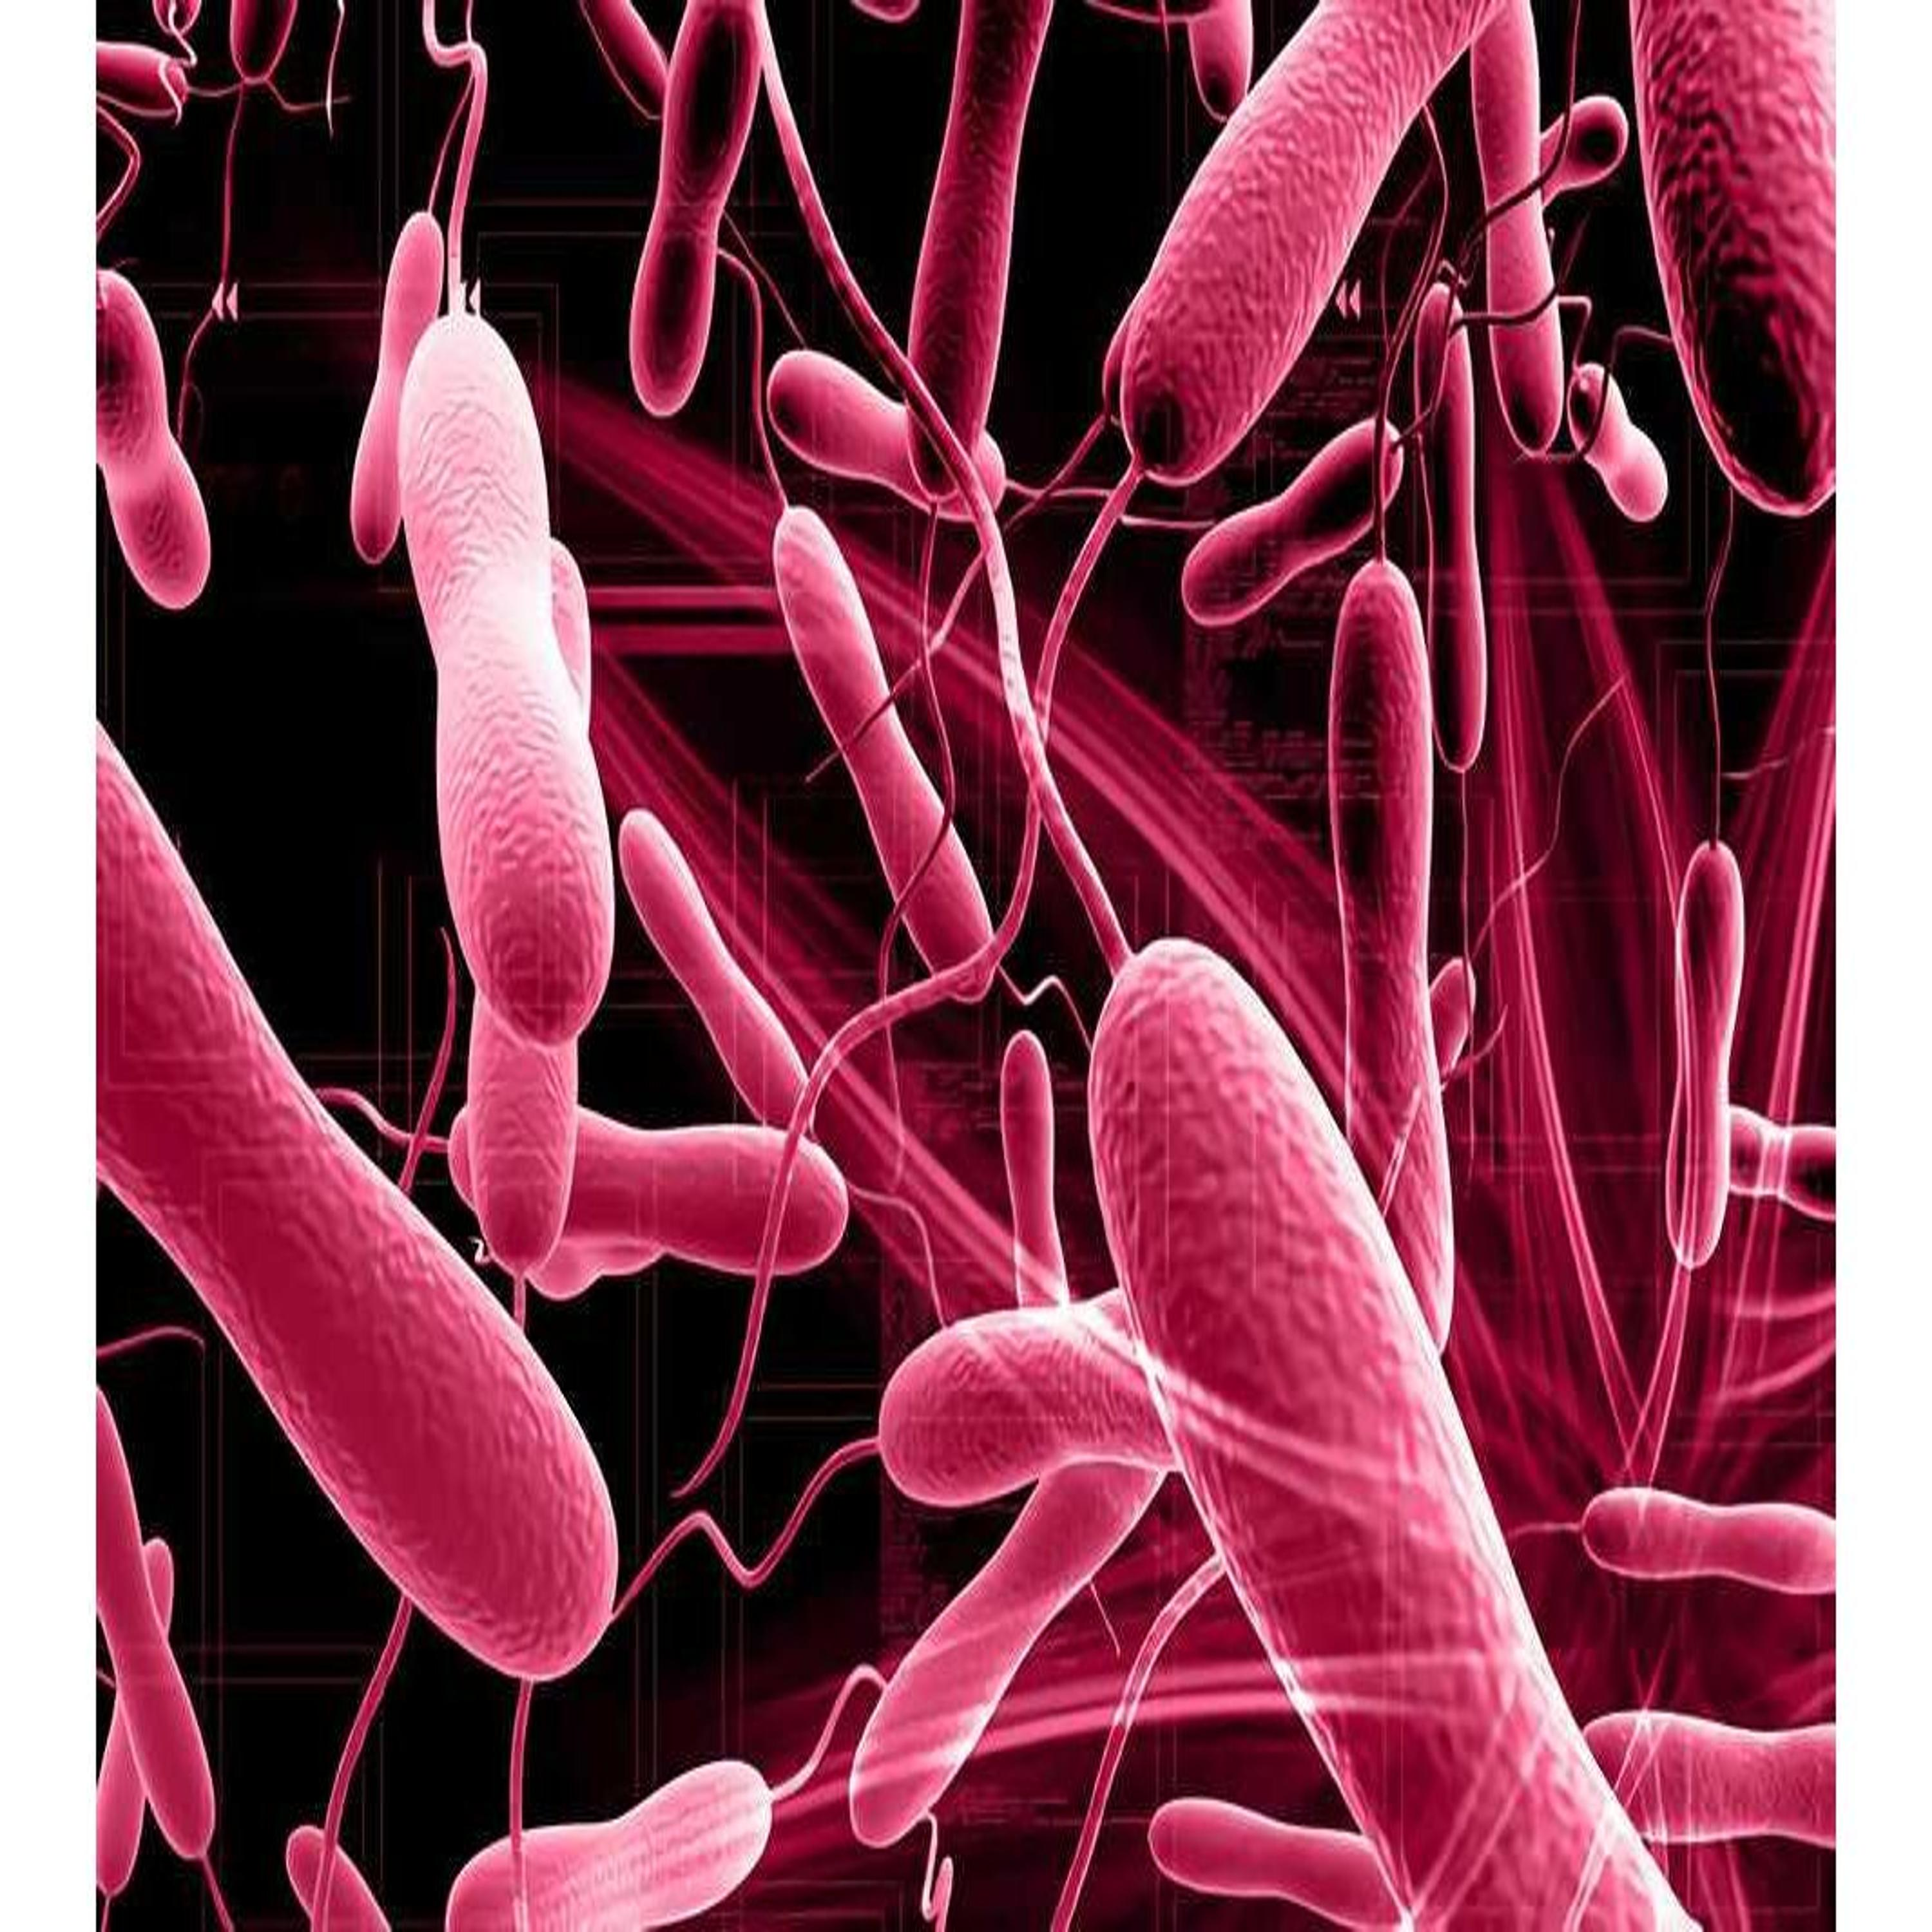Vibrio_cholerae5: (396, 0, 621, 1051), (711, 241, 1000, 1005), (446, 1661, 888, 1932), (770, 347, 1123, 531)
